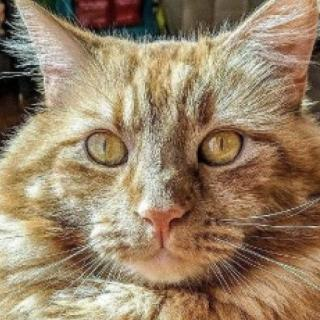cat: (14, 0, 320, 296)
nose: (128, 164, 195, 249)
